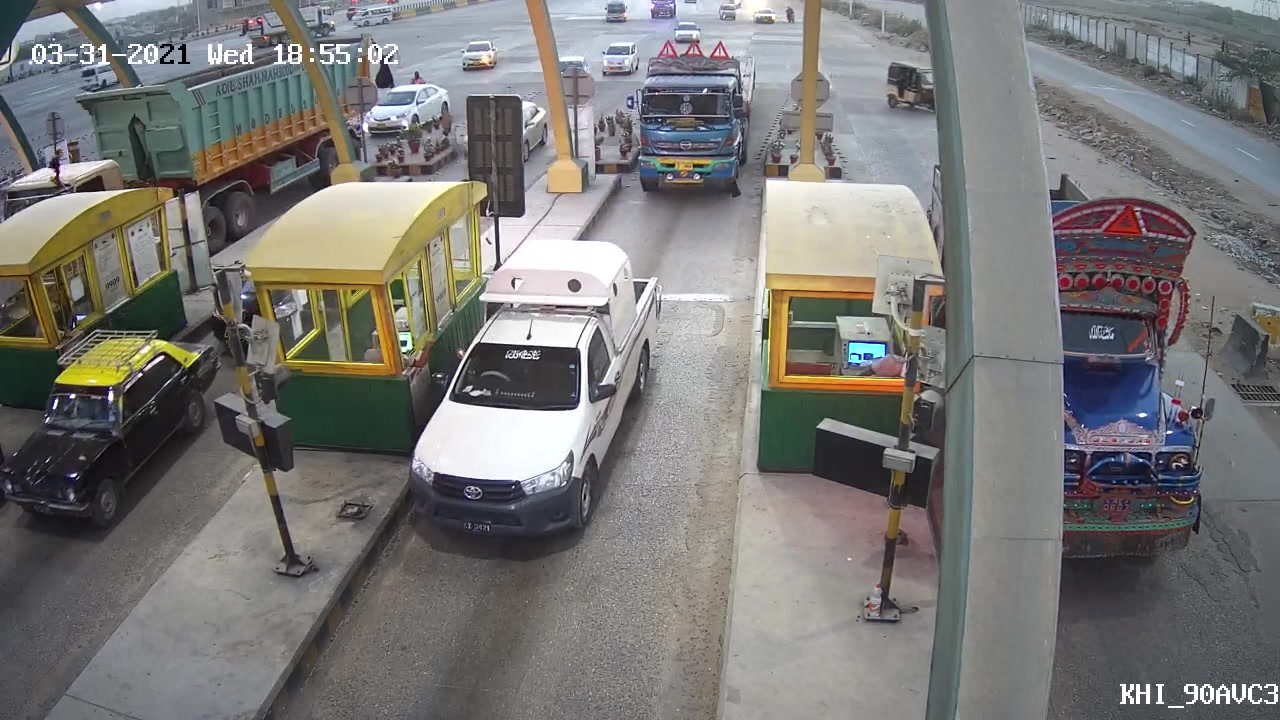F2: (402, 236, 669, 541)
